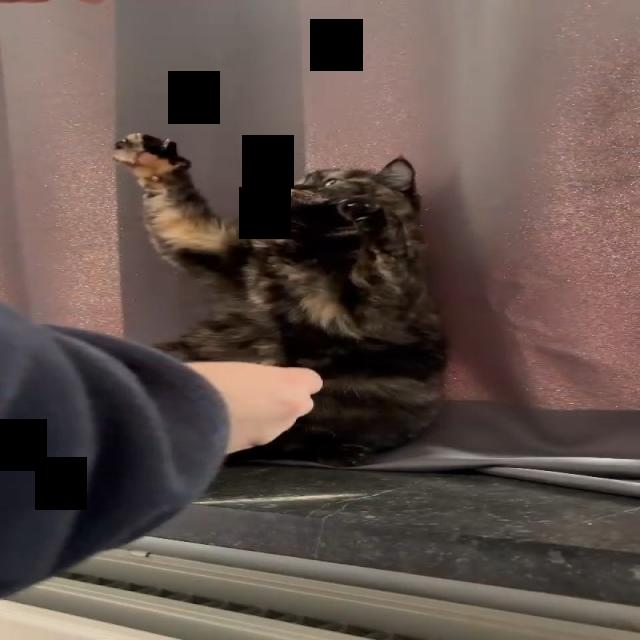authorized: (111, 131, 449, 468)
